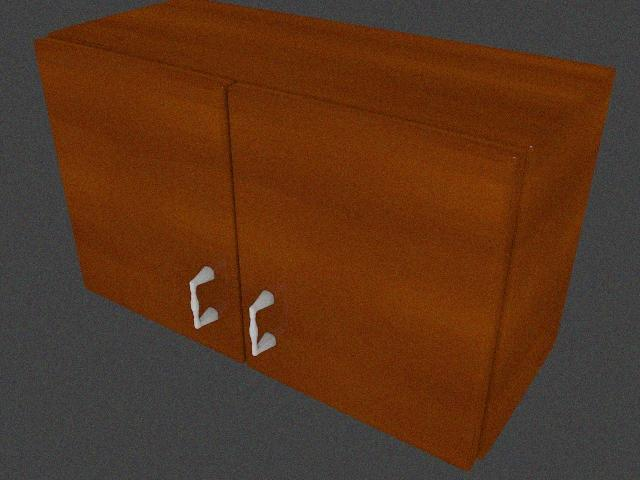cabinet_door: (235, 121, 493, 418), (60, 65, 235, 326)
handle: (181, 258, 222, 334), (246, 284, 284, 361)
